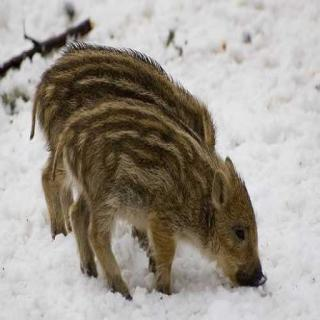Pig: (62, 110, 269, 294), (37, 35, 223, 234)
